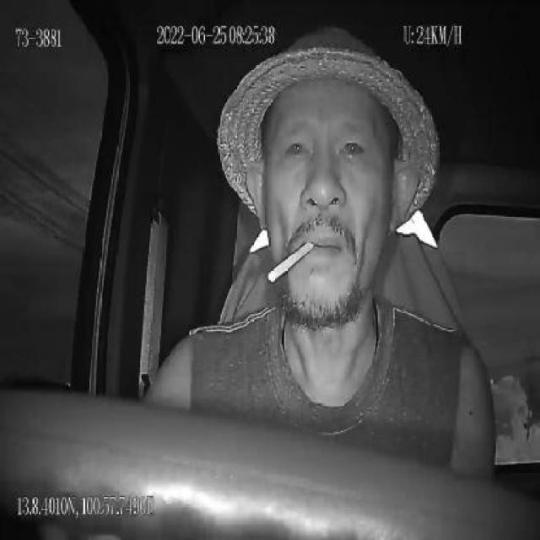smoking: (263, 240, 313, 285)
